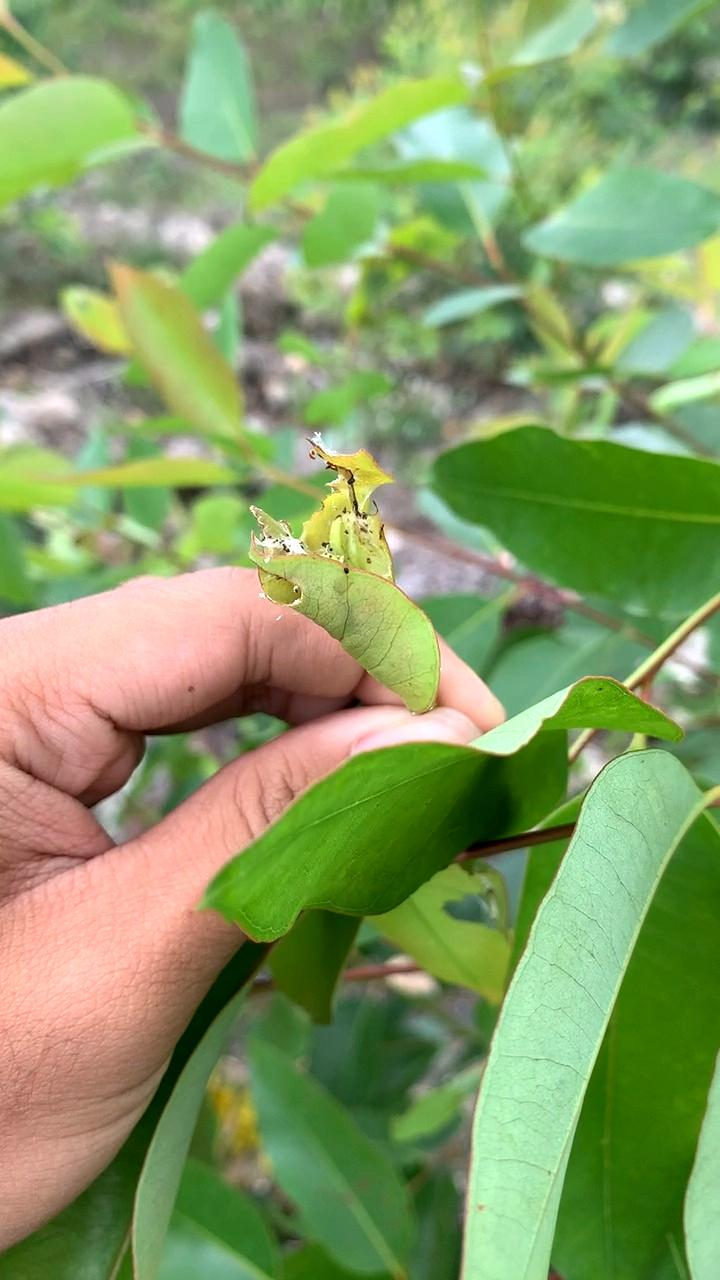Leaf Roller - Leaf: (261, 448, 443, 693)
